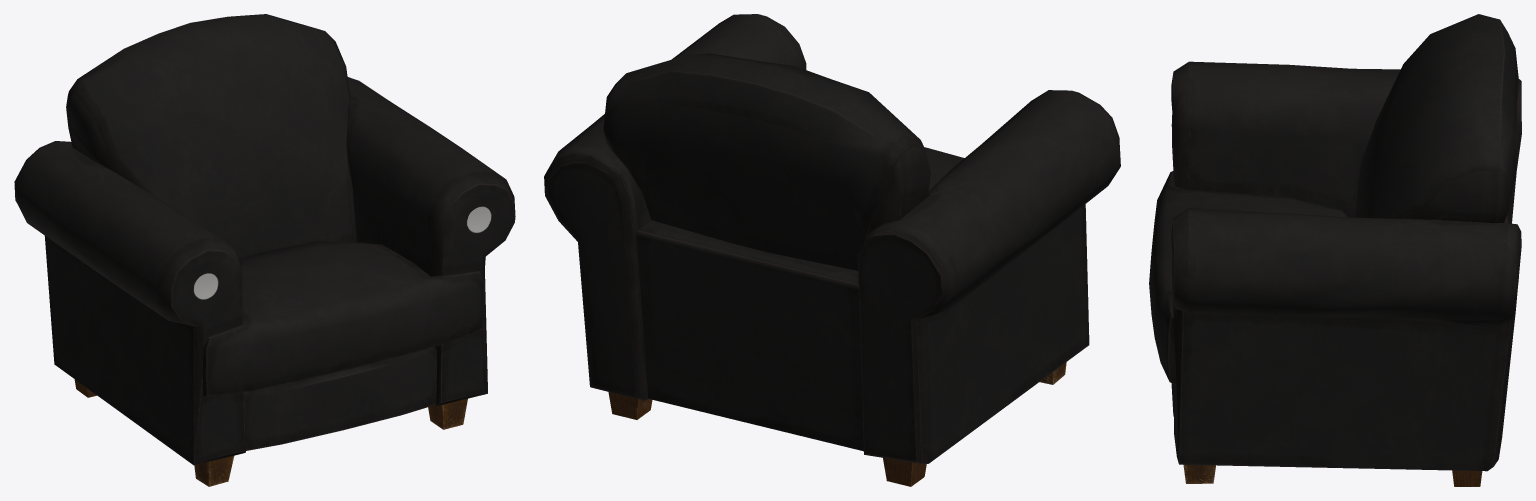
File: armchair_low-poly.glb
The picture shows the model from 3 angles, left to right: view 1: azimuth 30°, elevation 25°; view 2: azimuth 150°, elevation 25°; view 3: azimuth 270°, elevation 25°; orthographic projection. The views are drawn at different scales.
Parts seen in each view (by area): view 1: armchair; view 2: armchair; view 3: armchair.
Part boxes in pixels (x1=…): armchair: x1=14, y1=14, x2=515, y2=486; armchair: x1=544, y1=14, x2=1120, y2=486; armchair: x1=1149, y1=14, x2=1521, y2=486.
Bounding box in the file's own units: 1.1 × 0.9777 × 0.9003.
1 material, 1 textured.
